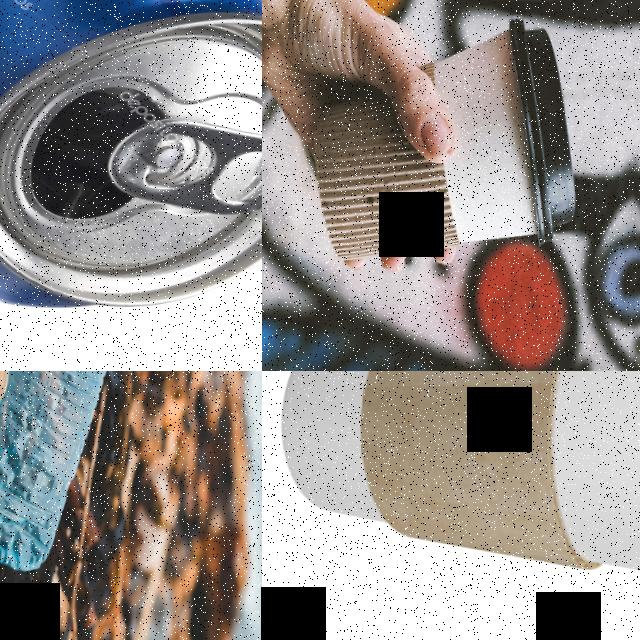bottle: (0, 371, 124, 580)
cup: (273, 371, 640, 623), (309, 15, 582, 270)
